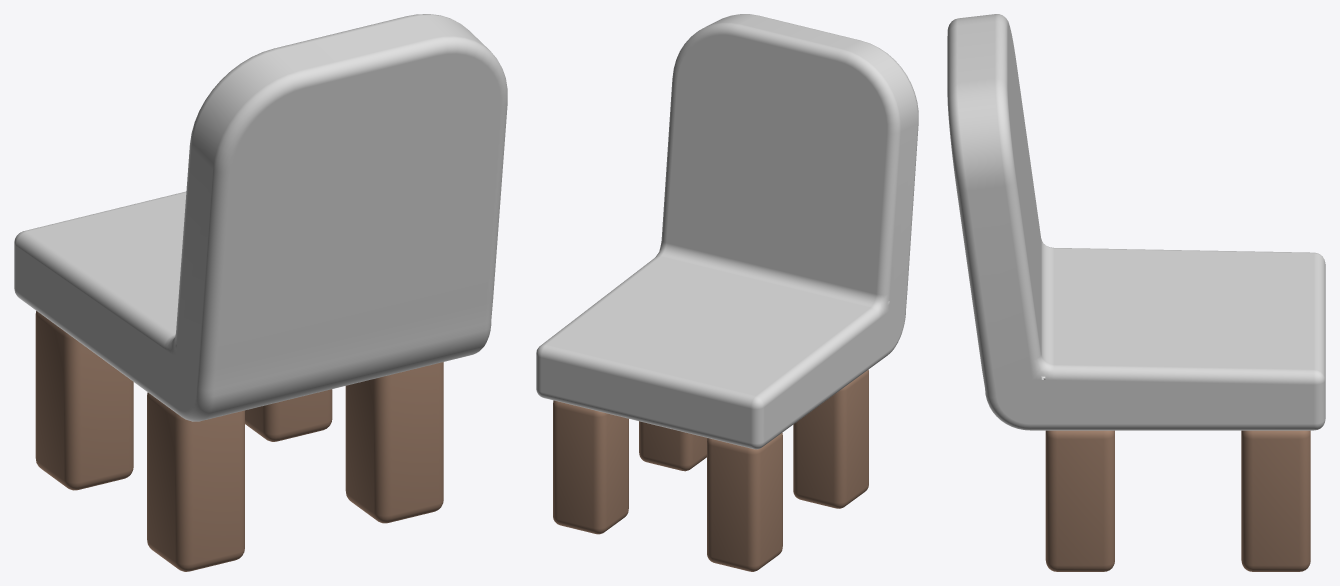
Rendered from chair.glb.
The picture shows the model from 3 angles, left to right: view 1: azimuth 30°, elevation 25°; view 2: azimuth 150°, elevation 25°; view 3: azimuth 270°, elevation 25°; orthographic projection. The views are drawn at different scales.
Visible parts, largest first — view 1: Chair, Chair Leg; view 2: Chair, Chair Leg; view 3: Chair, Chair Leg.
Part boxes in pixels (x1,y1,x2,y2): Chair: [14, 14, 507, 421]; Chair Leg: [35, 311, 443, 571]; Chair: [536, 14, 918, 449]; Chair Leg: [553, 369, 868, 571]; Chair: [947, 14, 1325, 430]; Chair Leg: [1045, 430, 1310, 571].
Bounding box in the file's own units: 1.29 × 2.24 × 1.64.
